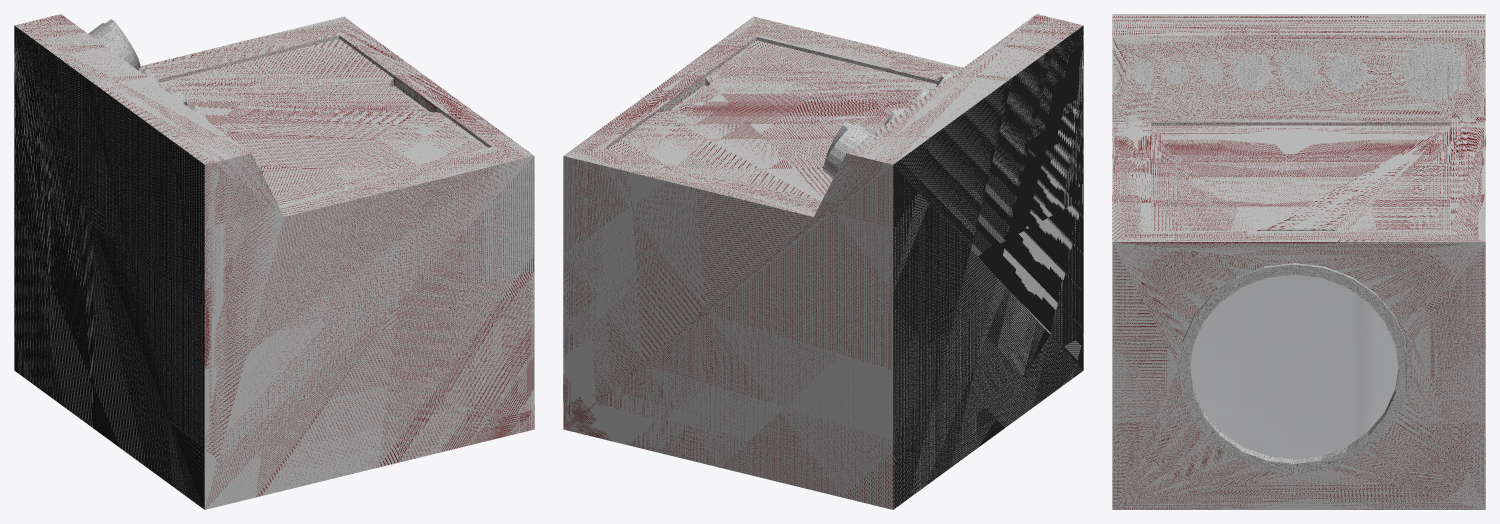
The picture shows the model from 3 angles, left to right: view 1: azimuth 30°, elevation 25°; view 2: azimuth 150°, elevation 25°; view 3: azimuth 270°, elevation 25°; orthographic projection. The views are drawn at different scales.
Parts seen in each view (by area): view 1: mesh1_mesh1-geometry; view 2: mesh1_mesh1-geometry; view 3: mesh1_mesh1-geometry.
Part boxes in pixels (x1,y1,x2,y2): mesh1_mesh1-geometry: (14,14,534,509); mesh1_mesh1-geometry: (563,14,1083,509); mesh1_mesh1-geometry: (1112,14,1485,509).
Bounding box in the file's own units: 0.5778 × 0.5821 × 0.5721.
